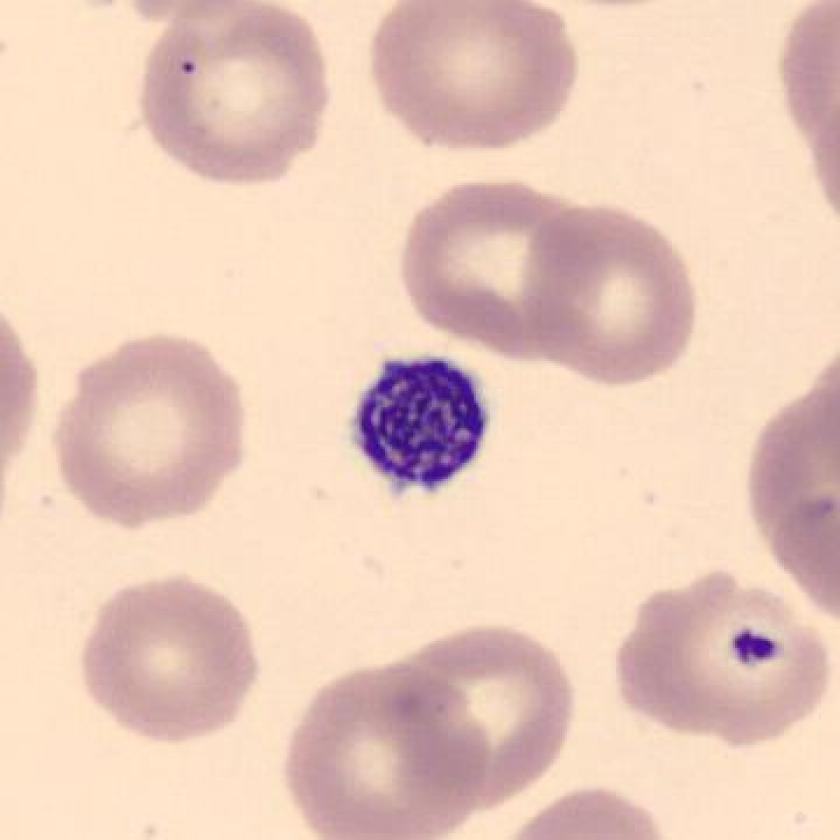platelets: (346, 339, 505, 505)
